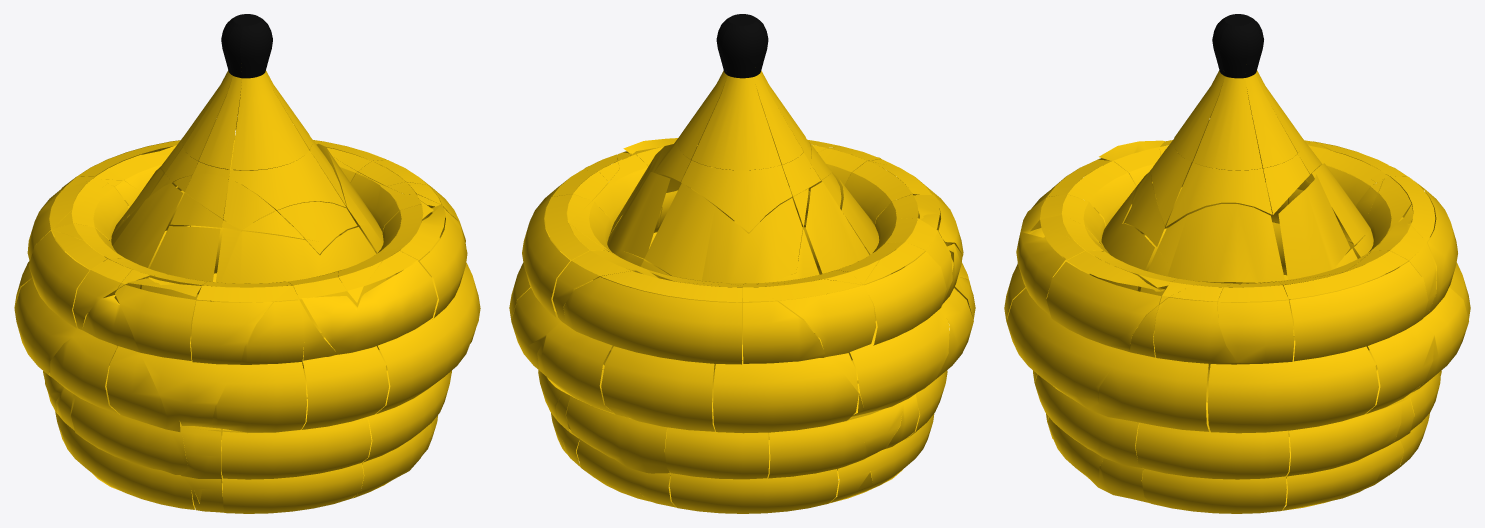
3 renders of one model, left to right at view 1: azimuth 30°, elevation 25°; view 2: azimuth 150°, elevation 25°; view 3: azimuth 270°, elevation 25°, orthographic.
Parts seen in each view (by area): view 1: Torus.006; view 2: Torus.006; view 3: Torus.006.
Part boxes in pixels (bbox=[...]): Torus.006: bbox=[14, 14, 480, 513]; Torus.006: bbox=[509, 14, 975, 513]; Torus.006: bbox=[1004, 14, 1470, 513].
Bounding box in the file's own units: 79.09 × 80.02 × 79.13.
